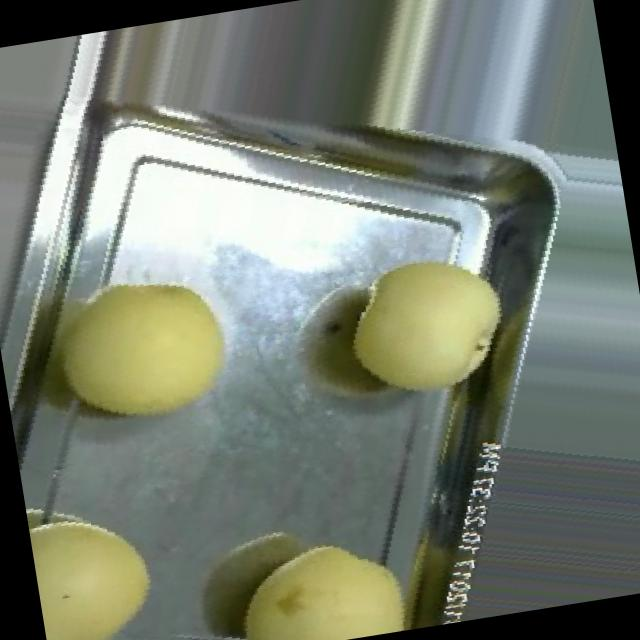Fruit: (18, 232, 266, 460), (320, 221, 540, 425), (204, 505, 434, 640), (25, 481, 189, 640)
